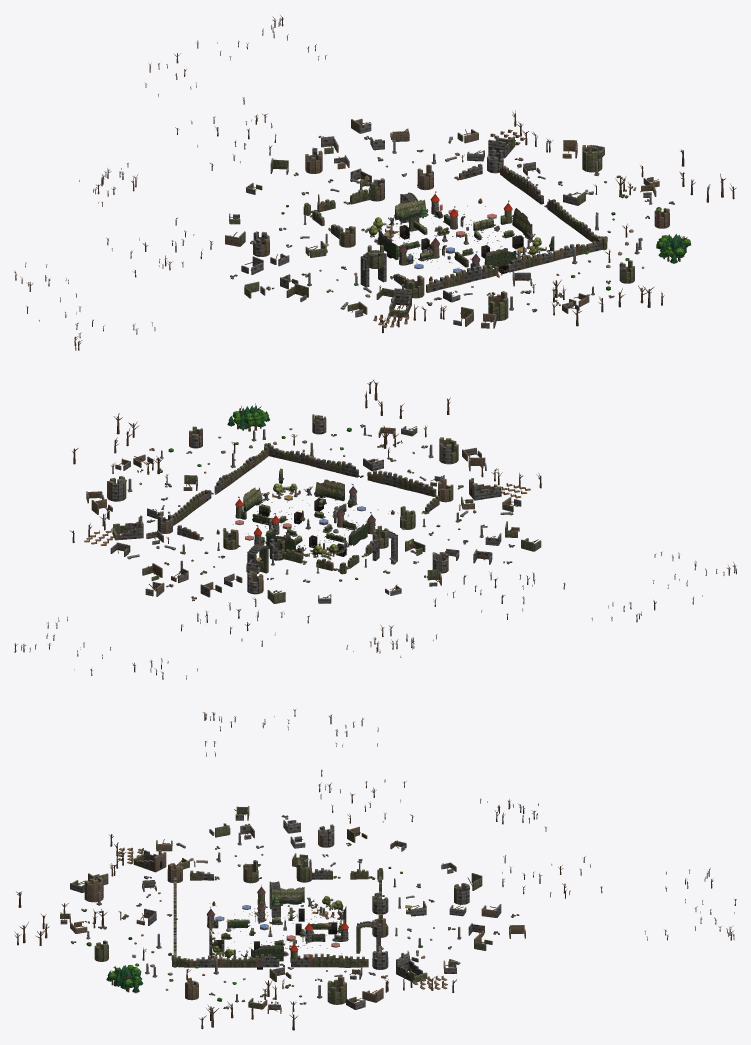
The model's file is ruins.glb.
3 views of the same model, one above another, from view 1: azimuth 30°, elevation 25°; view 2: azimuth 150°, elevation 25°; view 3: azimuth 270°, elevation 25° (orthographic). The views are drawn at different scales.
Parts seen in each view (by area): view 1: Props; view 2: Props; view 3: Props.
Boxes of the visible parts, box(x1,y1,x2,y2) form: Props: box(14, 15, 736, 350); Props: box(14, 379, 736, 679); Props: box(14, 709, 736, 1030).
Bounding box in the file's own units: 242 × 20.66 × 243.
27 materials, 27 textured.
